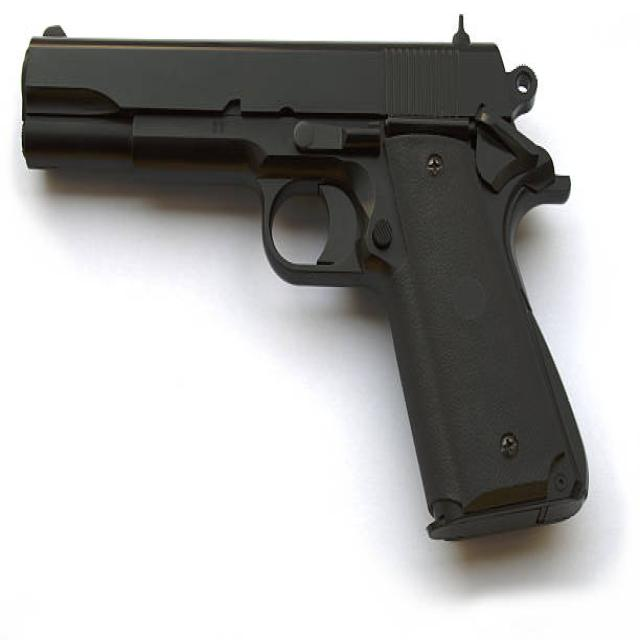pistol: (12, 16, 601, 544)
